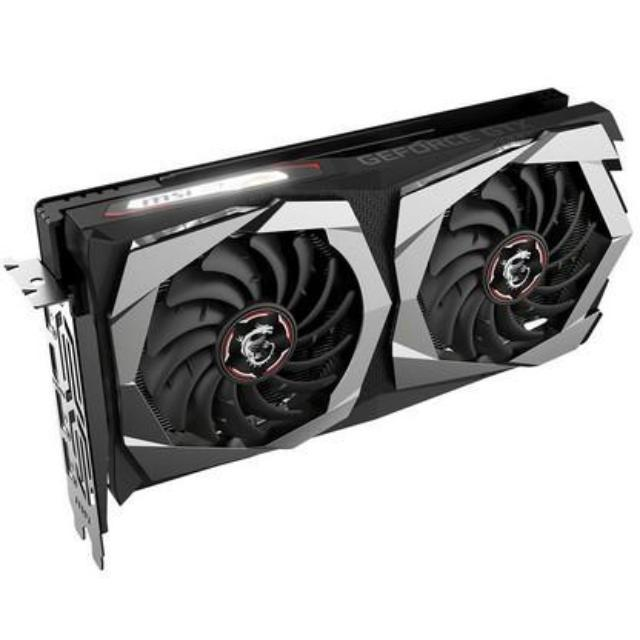GPU: (28, 79, 632, 519)
